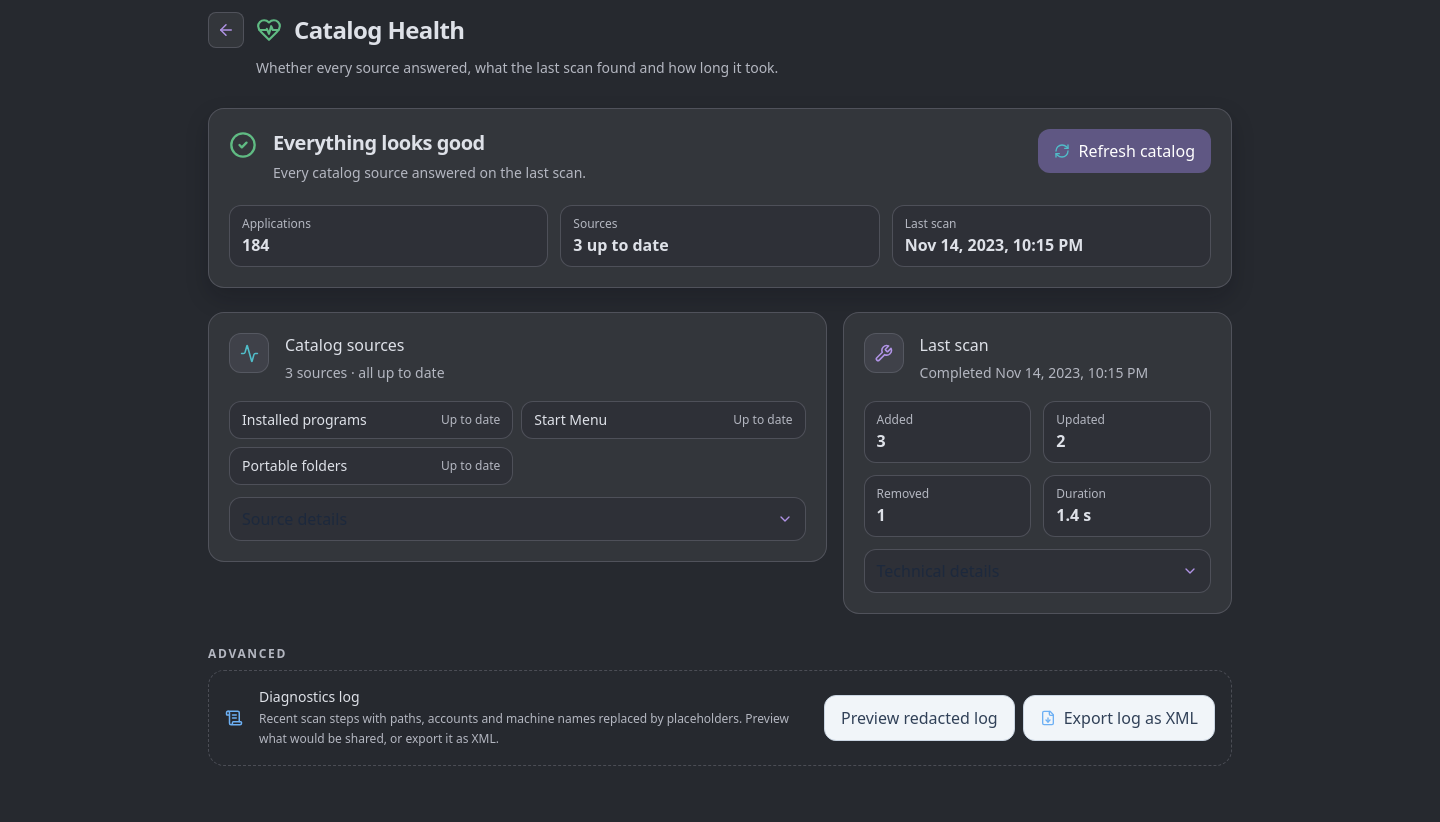
Test case: CatalogHealthPage › reports a saved log and re-enables the export
This screenshot has width=1440, height=822.
Click the button "Export log as XML".
click(1119, 718)  # box x1=1023 y1=695 x2=1215 y2=741
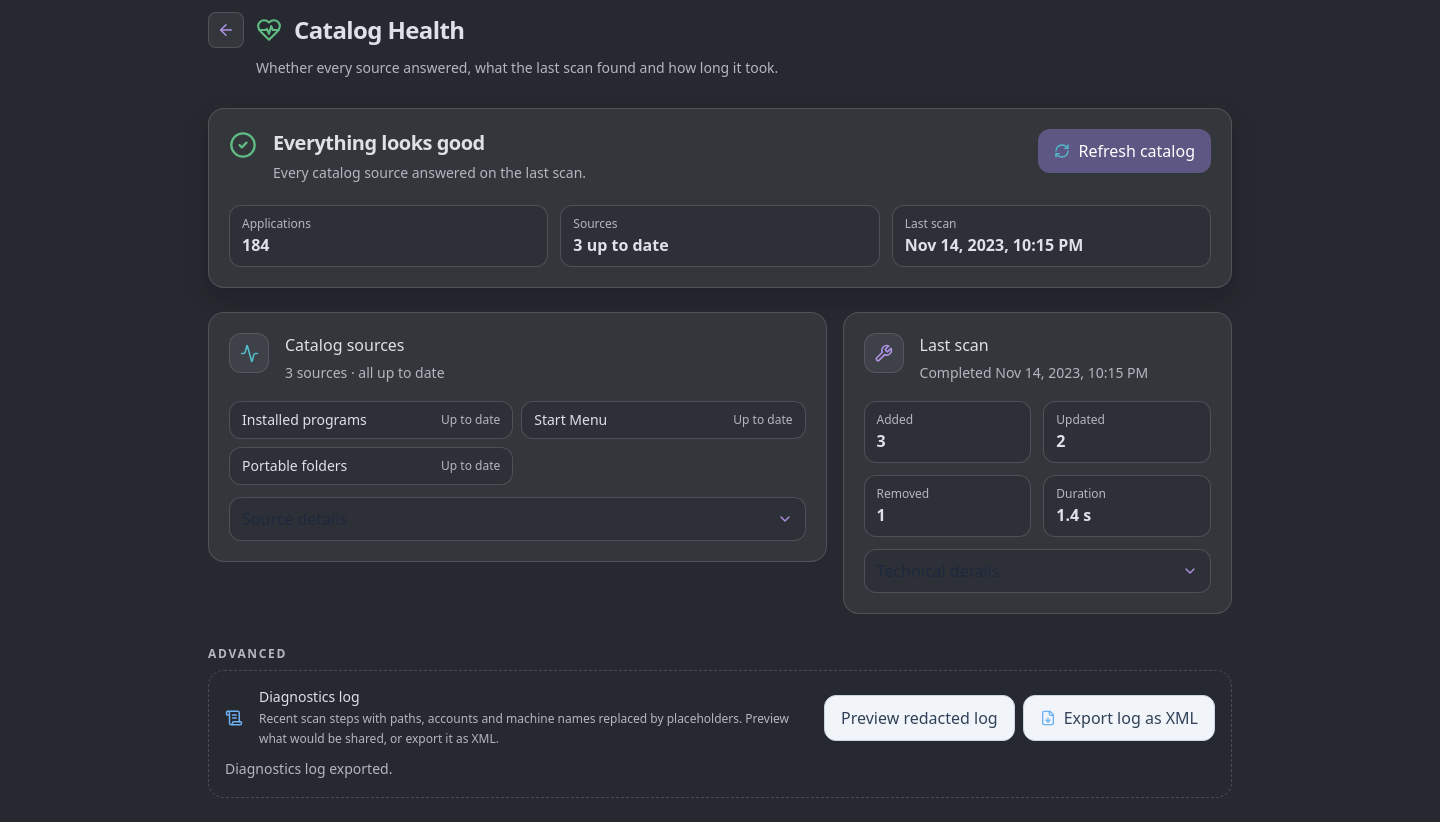
expect the text "Diagnostics log exported." is shown: met, box x1=225 y1=759 x2=392 y2=778
